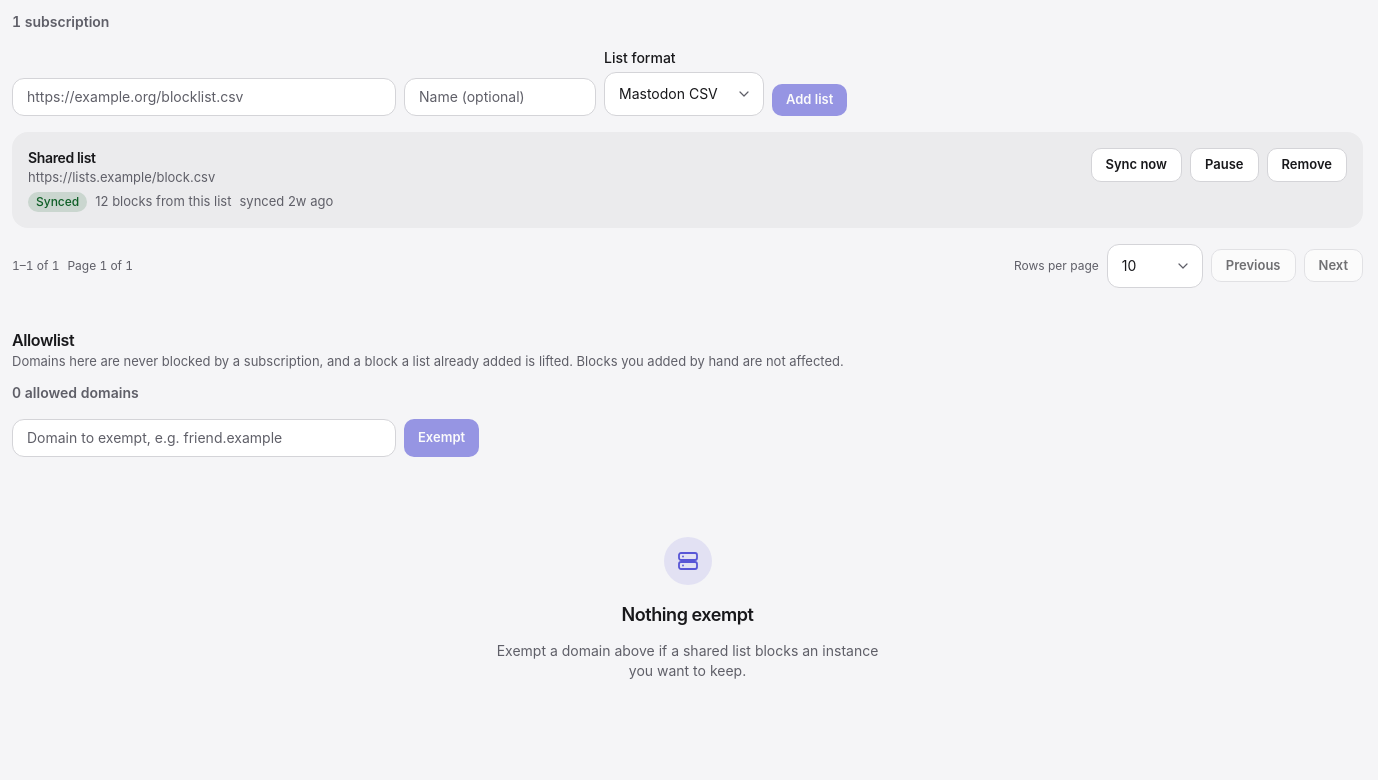
it: AdminBlocklistSubscriptionsView › pauses a subscription
The image size is (1378, 780).
Click the button with aria-label "Pause Shared list" at (1224, 165), box [1190, 148, 1258, 182]
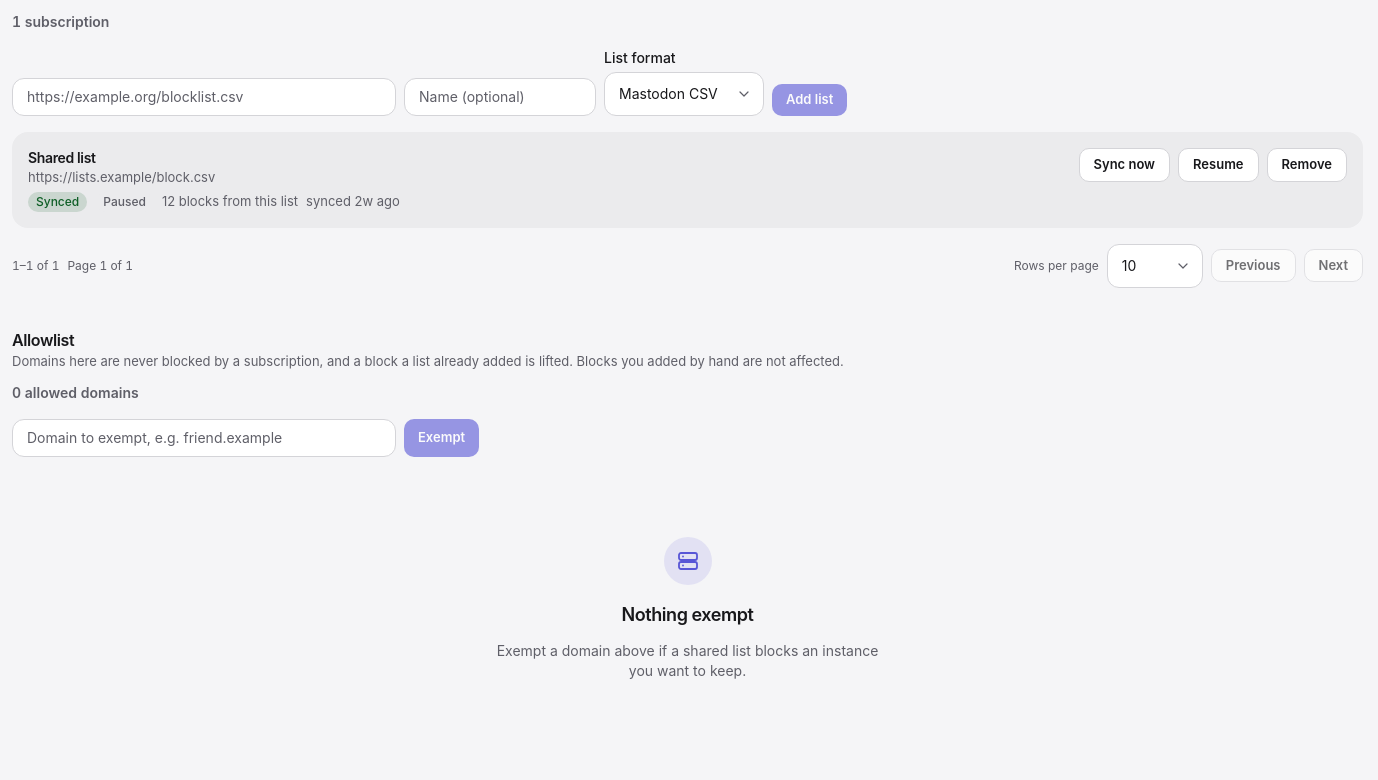
Expected: the text "12 blocks from this list" is shown, [162, 192, 298, 211]
Now the text "Paused" is shown, box [95, 192, 154, 212]
